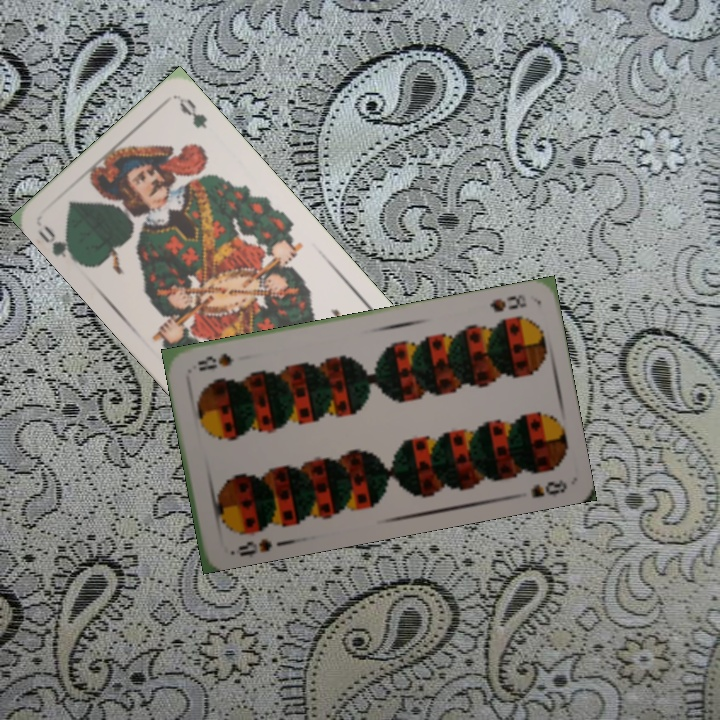GO: (34, 221, 83, 267)
S8: (485, 290, 529, 315), (234, 534, 274, 559)
